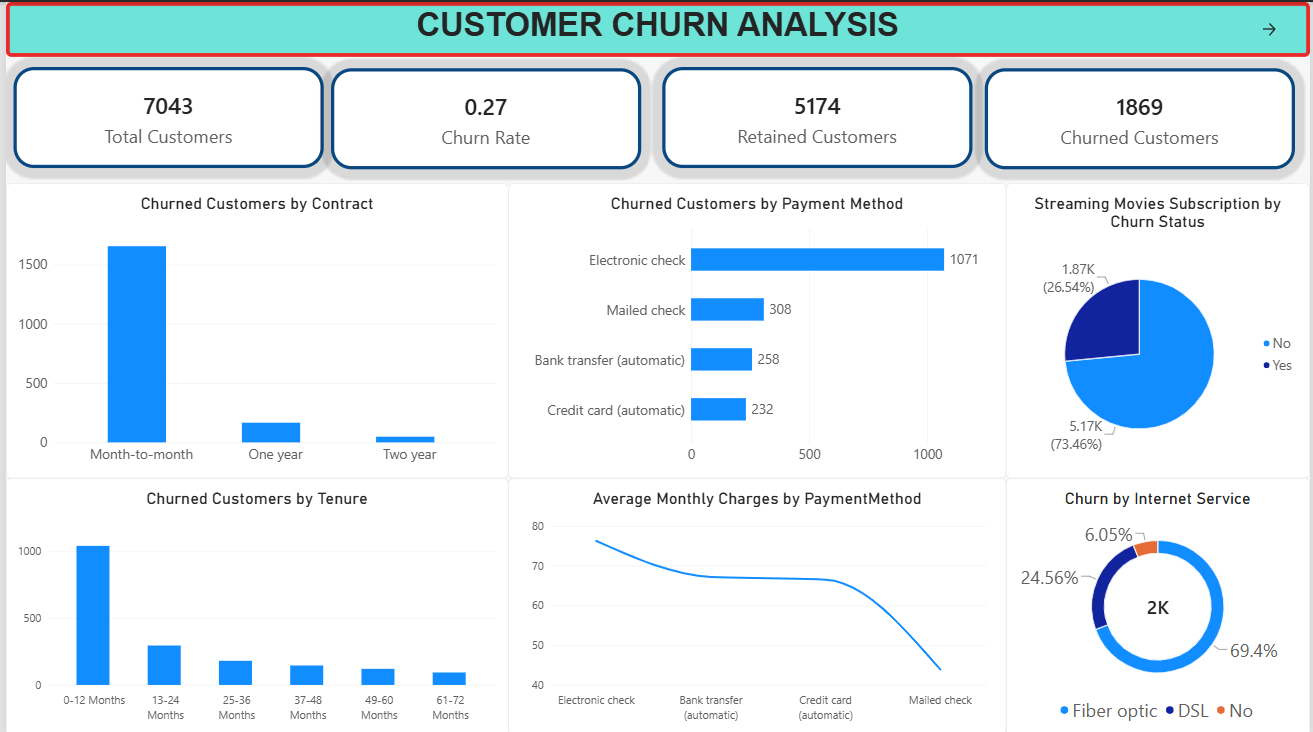

This screenshot's page, from the dashboard's own definition file:
{"tool":"powerbi","page":{"name":"Customer churn","canvas":[1920,1080],"ordinal":0},"visuals":[{"type":"textbox","box":[0,0,1919.6,81],"z":0},{"type":"card","fields":{"Values":["01 Churn-Dataset.Total Customers"]},"box":[11,95.7,456.4,149.1],"z":1000},{"type":"card","fields":{"Values":["01 Churn-Dataset.Churn Rate"]},"box":[478.5,97.5,456.4,149.1],"z":2000},{"type":"card","fields":{"Values":["01 Churn-Dataset.Churned Customers"]},"box":[1441.1,97.5,456.4,149.1],"z":3000},{"type":"card","fields":{"Values":["01 Churn-Dataset.Retained Customers"]},"box":[966.3,95.7,456.4,149.1],"z":4000},{"type":"clusteredColumnChart","title":"Churned Customers by Contract","fields":{"Category":["01 Churn-Dataset.Contract"],"Y":["01 Churn-Dataset.Churned Customers"]},"box":[0,266.9,739.9,434.4],"z":5000},{"type":"donutChart","title":"Churn by Internet Service","fields":{"Category":["01 Churn-Dataset.InternetService"],"Y":["01 Churn-Dataset.Churned Customers"]},"box":[1472.4,701.2,447.2,379.1],"z":6000},{"type":"clusteredBarChart","title":"Churned Customers by Payment Method","fields":{"Category":["01 Churn-Dataset.PaymentMethod"],"Y":["01 Churn-Dataset.Churned Customers"]},"box":[739.9,266.9,732.5,434.4],"z":7000},{"type":"clusteredColumnChart","title":"Churned Customers by Tenure ","fields":{"Category":["01 Churn-Dataset.Tenure Group"],"Y":["01 Churn-Dataset.Churned Customers"]},"box":[0,701.2,739.9,379.1],"z":8000},{"type":"lineChart","fields":{"Category":["01 Churn-Dataset.PaymentMethod"],"Y":["01 Churn-Dataset.Average Monthly Charges"]},"box":[739.9,701.2,732.5,379.1],"z":9000},{"type":"pieChart","title":"Streaming Movies Subscription by Churn Status","fields":{"Category":["01 Churn-Dataset.Churn"],"Y":["CountNonNull(01 Churn-Dataset.StreamingMovies)"]},"box":[1472.4,266.9,447.2,434.4],"z":10000},{"type":"actionButton","box":[1800,0,119.6,81],"z":10001}]}

Visuals, with their boxes in screenshot pixels (x1, y1, x2, y2), scaled from the page's 1920x1080 canvas onto the 1313x732 screenshot:
textbox: left=0, top=0, right=1312, bottom=55
card - 01 Churn-Dataset.Total Customers: left=8, top=65, right=320, bottom=166
card - 01 Churn-Dataset.Churn Rate: left=327, top=66, right=639, bottom=167
card - 01 Churn-Dataset.Churned Customers: left=986, top=66, right=1298, bottom=167
card - 01 Churn-Dataset.Retained Customers: left=661, top=65, right=973, bottom=166
"Churned Customers by Contract" clusteredColumnChart: left=0, top=181, right=506, bottom=475
"Churn by Internet Service" donutChart: left=1007, top=475, right=1312, bottom=731
"Churned Customers by Payment Method" clusteredBarChart: left=506, top=181, right=1007, bottom=475
"Churned Customers by Tenure " clusteredColumnChart: left=0, top=475, right=506, bottom=731
lineChart - 01 Churn-Dataset.PaymentMethod x 01 Churn-Dataset.Average Monthly Charges: left=506, top=475, right=1007, bottom=731
"Streaming Movies Subscription by Churn Status" pieChart: left=1007, top=181, right=1312, bottom=475
actionButton: left=1231, top=0, right=1312, bottom=55
